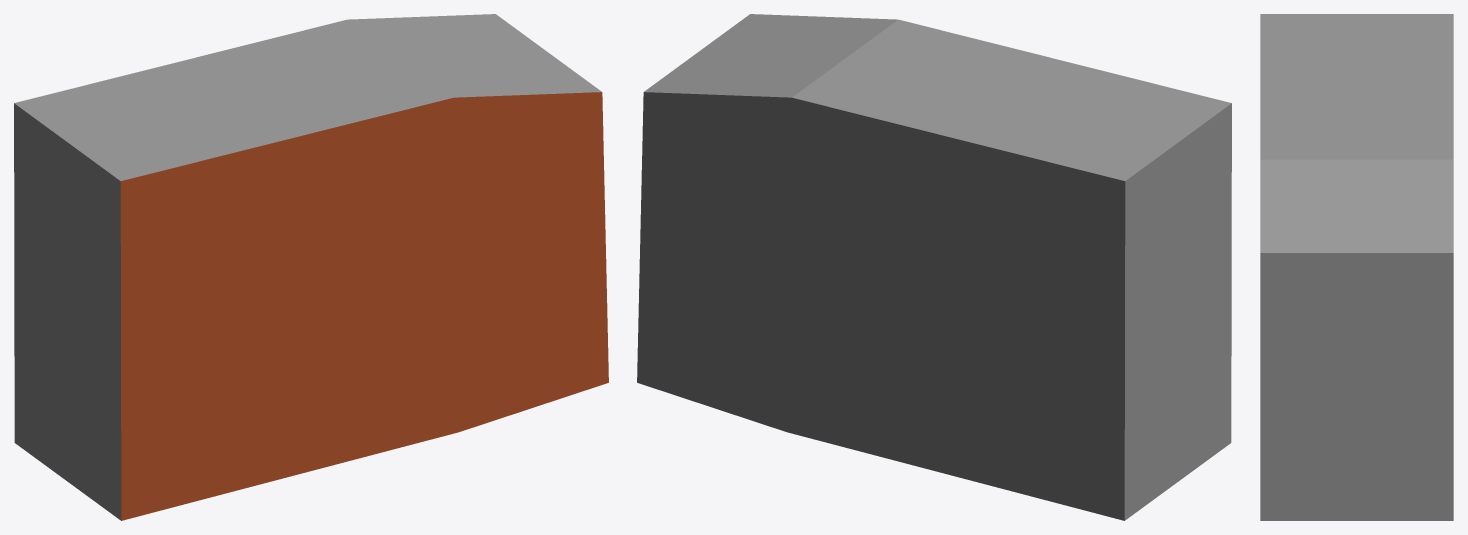
Rendered from construction_2446_assumed_A_Casa_h6m.obj.
3 views of the same model, side by side, from view 1: azimuth 30°, elevation 25°; view 2: azimuth 150°, elevation 25°; view 3: azimuth 270°, elevation 25° (orthographic). The views are drawn at different scales.
Visible parts, largest first — view 1: construction_2446_assumed_A_Casa; view 2: construction_2446_assumed_A_Casa; view 3: construction_2446_assumed_A_Casa.
Part boxes in pixels (x1,y1,x2,y2): construction_2446_assumed_A_Casa: (14, 14, 608, 520); construction_2446_assumed_A_Casa: (637, 14, 1231, 520); construction_2446_assumed_A_Casa: (1260, 14, 1453, 520).
Bounding box in the file's own units: 15.85 × 10.62 × 6.
